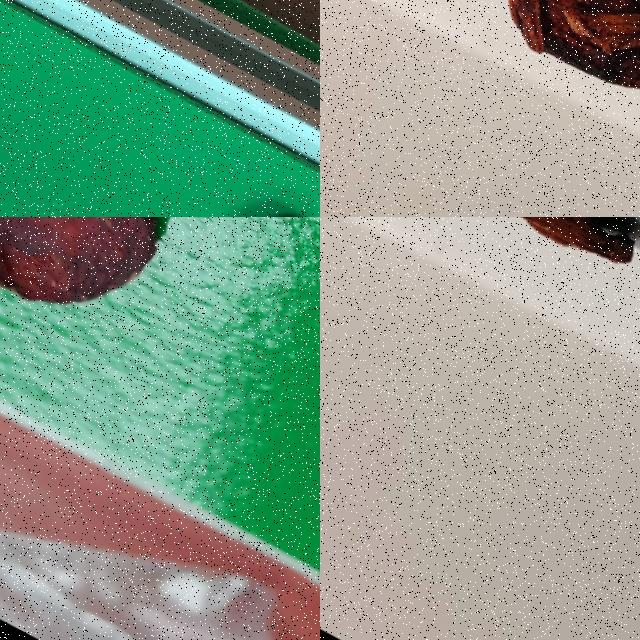Flat_cocoabeans: (413, 0, 639, 209), (0, 217, 269, 388), (320, 217, 639, 343), (154, 137, 319, 216)
